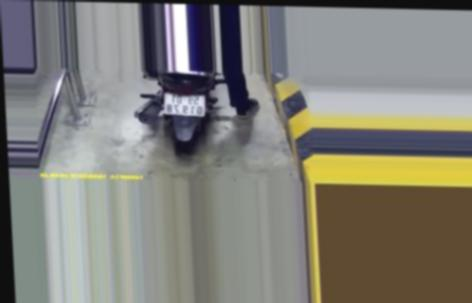License_Plate: (161, 91, 206, 120)
